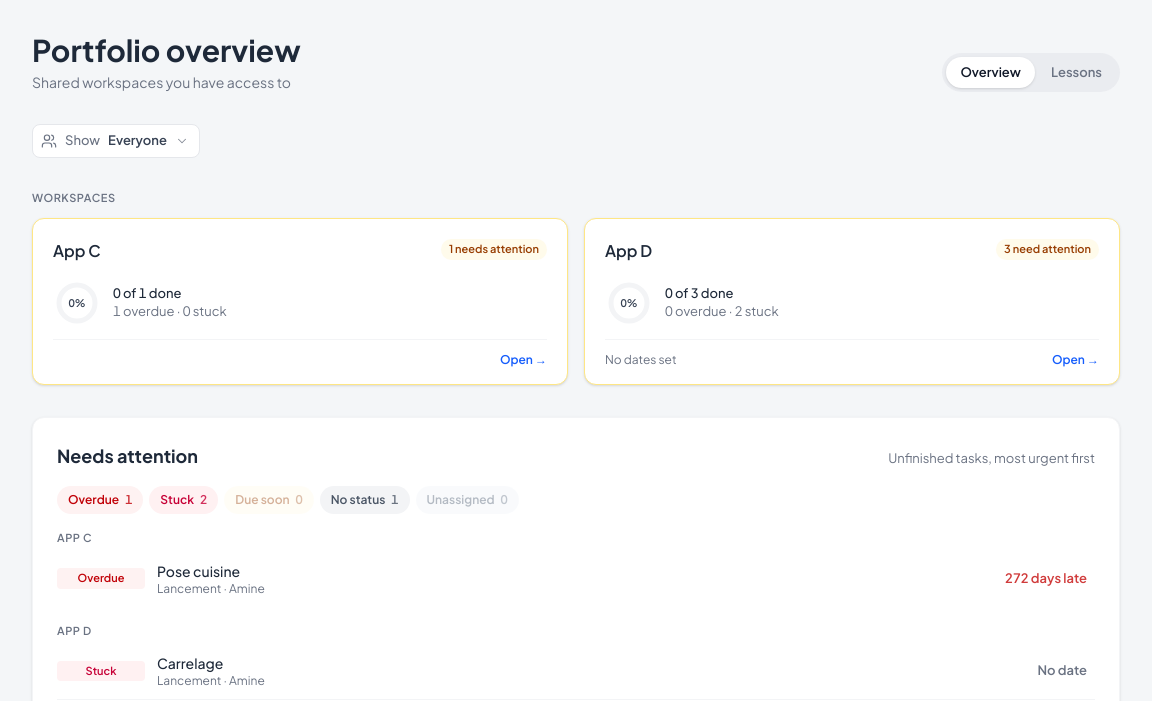
Test: PortfolioOverview › reason chips › counts each kind of problem, and shows one kind when clicked
Expected: the button "Overdue 1" is shown, [57,486,143,514]
Expected: the button "Unassigned 0" is disabled, [416,486,519,514]
Click the button "Stuck 2": (184, 500) [149,486,218,514]
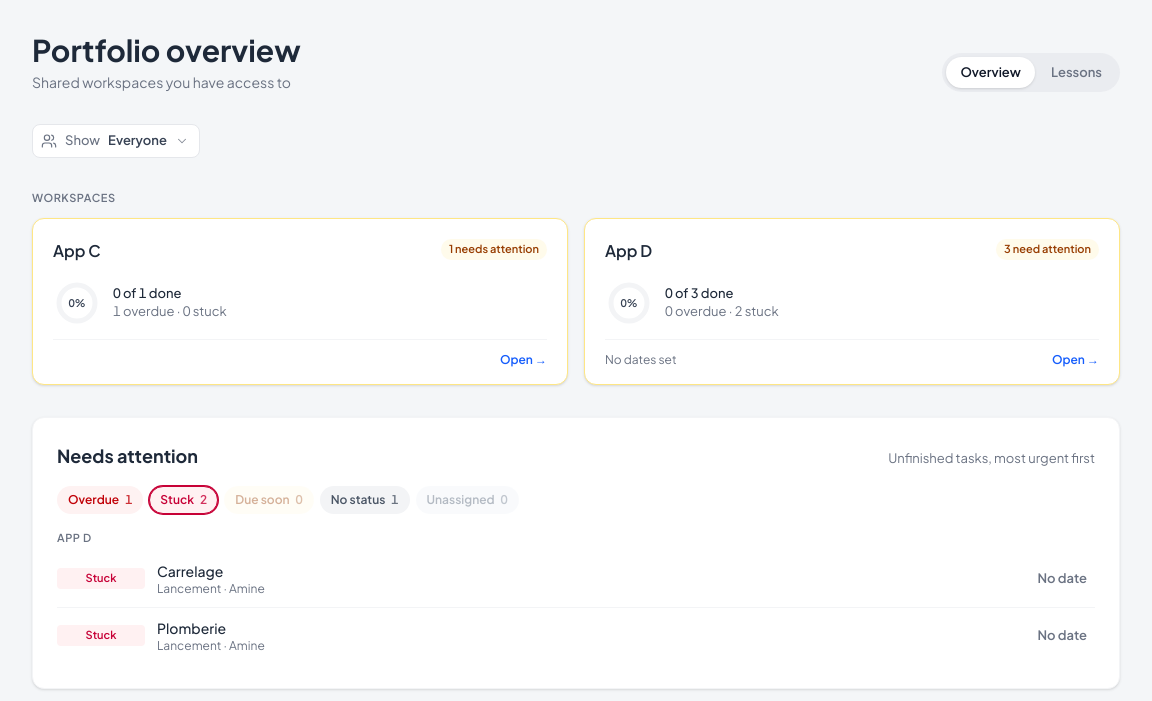
Expected: the text "Carrelage" is shown, [157,562,223,580]
Result: the button "Pose cuisine" is gone
# Clicking it again shows everything.
Click the button "Stuck 2": (184, 500) [149,486,218,514]
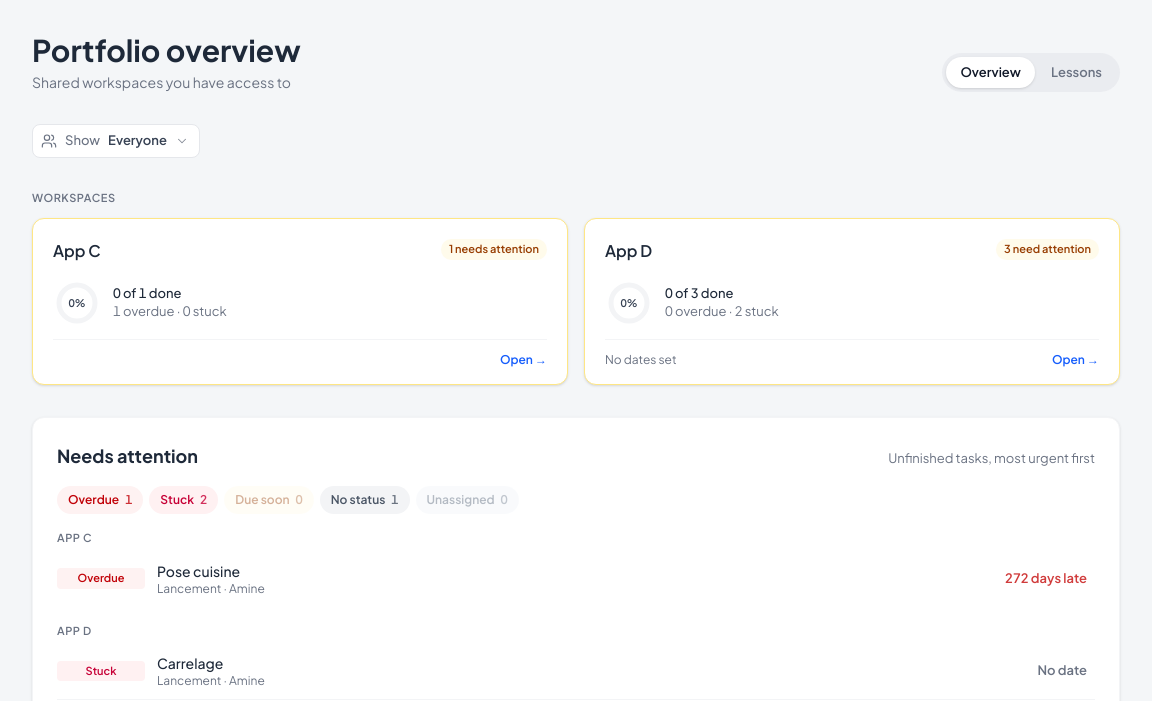
Result: the text "Pose cuisine" is shown at [157,562,240,580]
